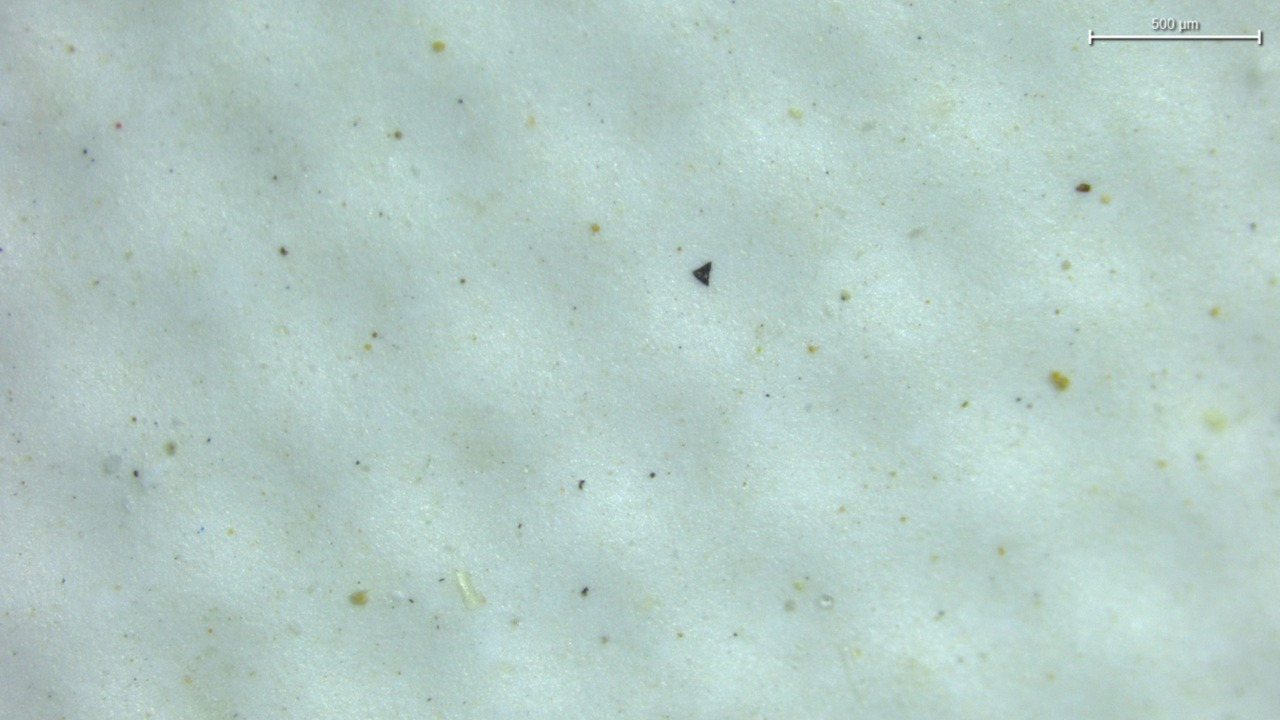microplastic_fragment: (455, 570, 485, 609), (692, 262, 711, 286)
